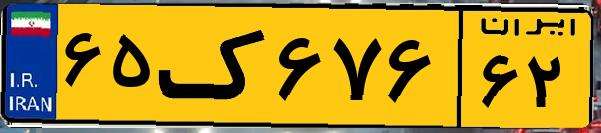2: (525, 38, 570, 115)
5: (110, 28, 158, 98)
6: (270, 28, 330, 110), (385, 28, 445, 110), (57, 26, 110, 100), (475, 38, 525, 113)
7: (330, 28, 385, 110)
ک: (158, 12, 270, 120)
